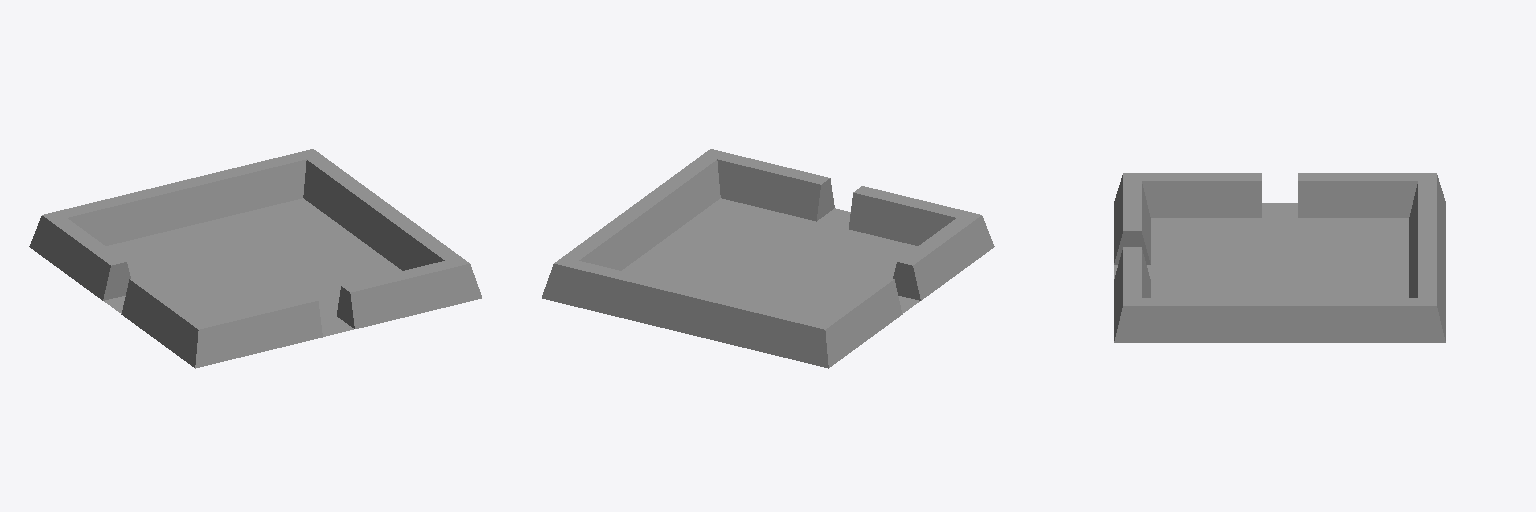
File: sala_6.obj
The picture shows the model from 3 angles: view 1: azimuth 30°, elevation 25°; view 2: azimuth 150°, elevation 25°; view 3: azimuth 270°, elevation 25°; orthographic projection.
Visible parts, largest first — view 1: Ground_Plane, Wall.000_Cube.011, Wall.007_Cube.017, Wall.002_Cube.014, Wall.005_Cube.002, Wall.004_Cube.015, Wall.006_Cube.016, Wall.003_Cube.010, Wall.001_Cube.012; view 2: Ground_Plane, Wall.005_Cube.002, Wall.002_Cube.014, Wall.000_Cube.011, Wall.006_Cube.016, Wall.007_Cube.017, Wall.004_Cube.015, Wall.001_Cube.012, Wall.003_Cube.010; view 3: Ground_Plane, Wall.003_Cube.010, Wall.001_Cube.012, Wall.004_Cube.015, Wall.006_Cube.016, Wall.007_Cube.017, Wall.005_Cube.002, Wall.002_Cube.014, Wall.000_Cube.011.
Part boxes in pixels (left/top/right/bottom): Ground_Plane: left=104, top=198, right=401, bottom=336; Wall.000_Cube.011: left=337, top=261, right=481, bottom=328; Wall.007_Cube.017: left=195, top=294, right=322, bottom=368; Wall.002_Cube.014: left=178, top=149, right=312, bottom=224; Wall.005_Cube.002: left=44, top=182, right=190, bottom=245; Wall.004_Cube.015: left=29, top=215, right=130, bottom=300; Wall.006_Cube.016: left=121, top=275, right=204, bottom=367; Wall.003_Cube.010: left=303, top=149, right=390, bottom=244; Wall.001_Cube.012: left=368, top=206, right=468, bottom=270; Ground_Plane: left=622, top=198, right=919, bottom=318; Wall.005_Cube.002: left=685, top=290, right=828, bottom=368; Wall.002_Cube.014: left=542, top=261, right=697, bottom=332; Wall.000_Cube.011: left=711, top=149, right=834, bottom=221; Wall.006_Cube.016: left=893, top=215, right=994, bottom=300; Wall.007_Cube.017: left=849, top=186, right=979, bottom=245; Wall.004_Cube.015: left=819, top=275, right=902, bottom=367; Wall.001_Cube.012: left=633, top=149, right=720, bottom=244; Wall.003_Cube.010: left=555, top=206, right=655, bottom=270; Ground_Plane: left=1114, top=203, right=1408, bottom=297; Wall.003_Cube.010: left=1280, top=298, right=1445, bottom=342; Wall.001_Cube.012: left=1114, top=298, right=1279, bottom=342; Wall.004_Cube.015: left=1298, top=173, right=1435, bottom=217; Wall.006_Cube.016: left=1124, top=173, right=1261, bottom=217; Wall.007_Cube.017: left=1114, top=173, right=1150, bottom=264; Wall.005_Cube.002: left=1409, top=173, right=1445, bottom=270; Wall.002_Cube.014: left=1409, top=239, right=1445, bottom=340; Wall.000_Cube.011: left=1114, top=247, right=1150, bottom=340.
Size of the model in its own units: 18 by 2 by 18.